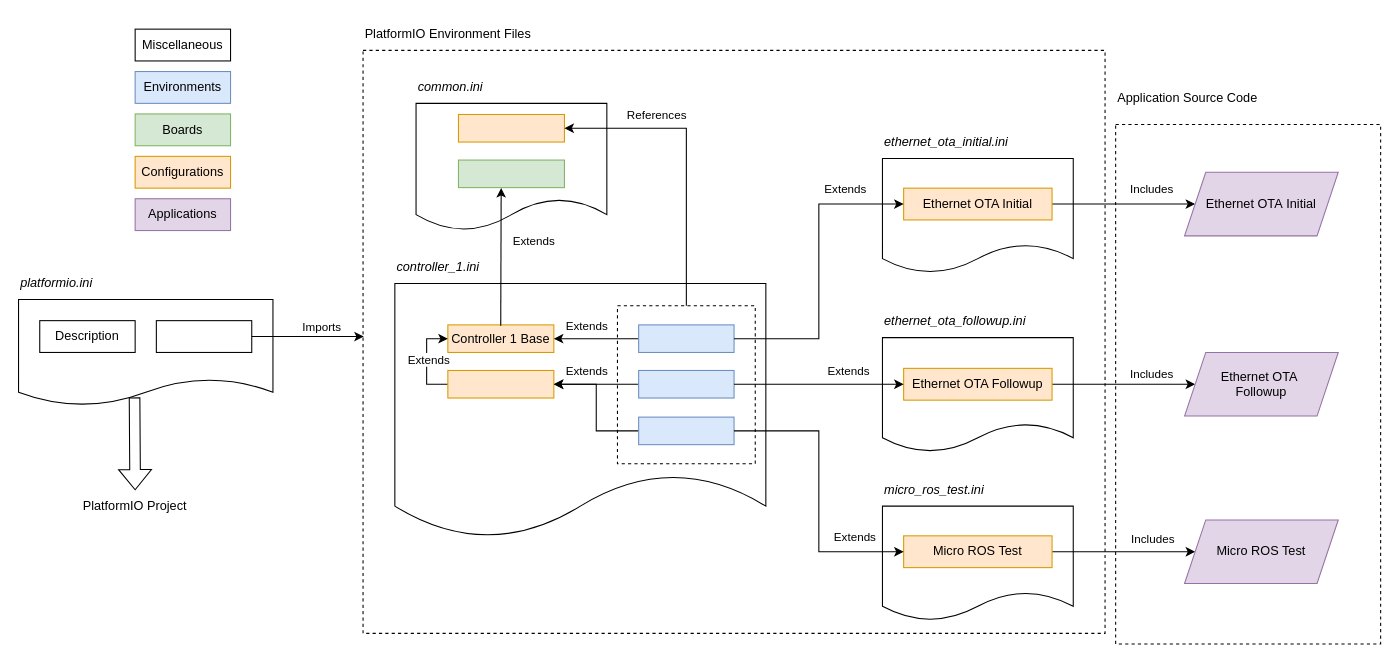
Image size: 1399x662. Some labels were removed from this diagram. The centre of each missing label's shape, as x and y in pixels:
Common: [510,127]
Controller 1 OTA: [500,383]
ESP32-P4 Base: [510,173]
Extra Configs: [203,336]
MicroROS Test: [686,430]
OTA Followup: [686,383]
OTA Initial: [686,338]
